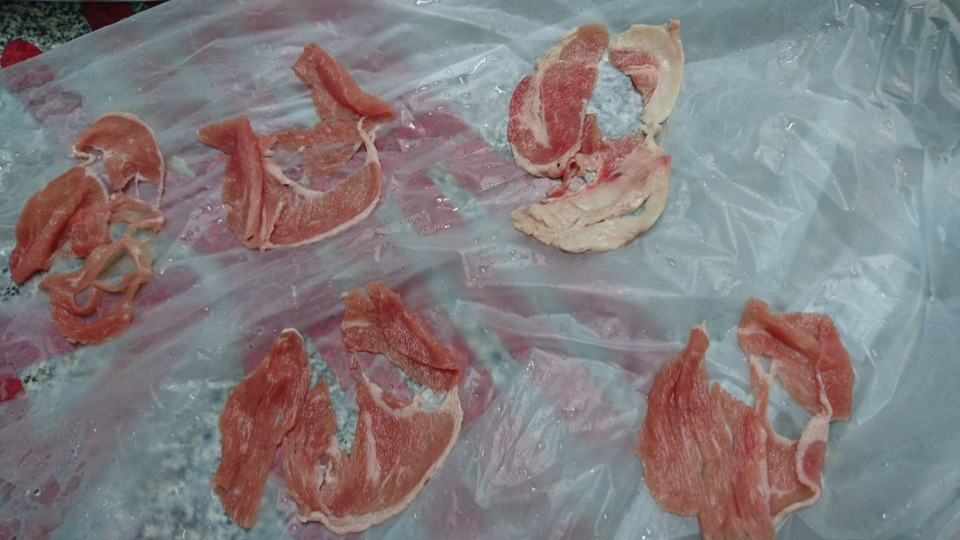restructured meat: (211, 279, 474, 540), (634, 300, 861, 540), (490, 14, 694, 265), (198, 35, 401, 248), (13, 108, 169, 350)
